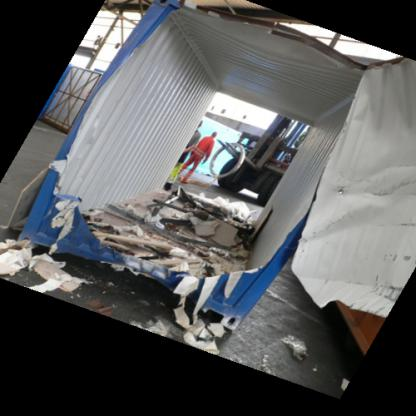Damage: (39, 23, 410, 354)
